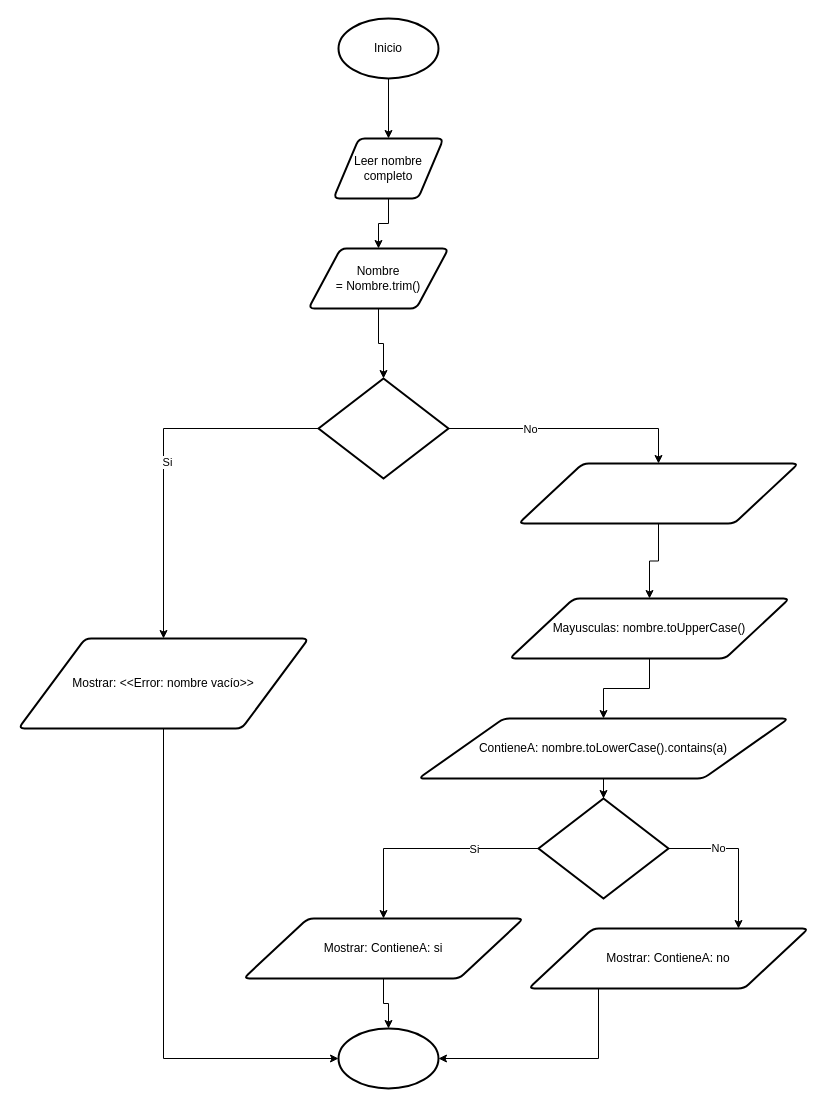
Image size: 826x1106. Some labels were removed from this diagram. Each missing label, with the box of its shape:
Fin: (337, 1027, 439, 1089)
Longitud = nombre.length(): (517, 462, 799, 524)
¿ContieneA?: (537, 797, 669, 899)
¿nombre.isEmpty()?: (317, 377, 449, 479)
